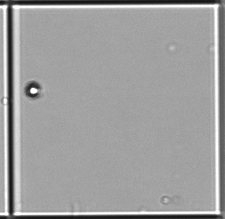Living Cell: (22, 79, 42, 100)
